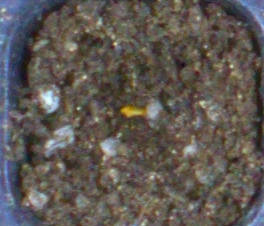pepper seed: (46, 44, 192, 164)
